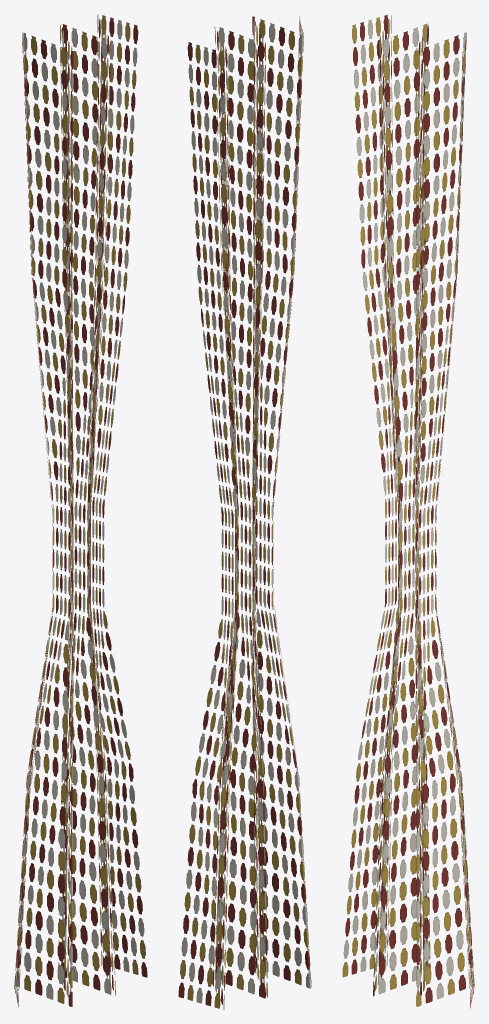
The model's file is Rem_Hat.glb.
The picture shows the model from 3 angles, left to right: view 1: azimuth 30°, elevation 25°; view 2: azimuth 210°, elevation 25°; view 3: azimuth 330°, elevation 25°; orthographic projection.
Visible parts, largest first — view 1: Rem_Hat; view 2: Rem_Hat; view 3: Rem_Hat.
Part boxes in pixels (bbox=[...]): Rem_Hat: bbox=[14, 14, 147, 1007]; Rem_Hat: bbox=[178, 16, 311, 1009]; Rem_Hat: bbox=[342, 14, 474, 1008].
Size of the model in its own units: 0.3 by 2.1 by 0.152.
1 material, 1 textured.
